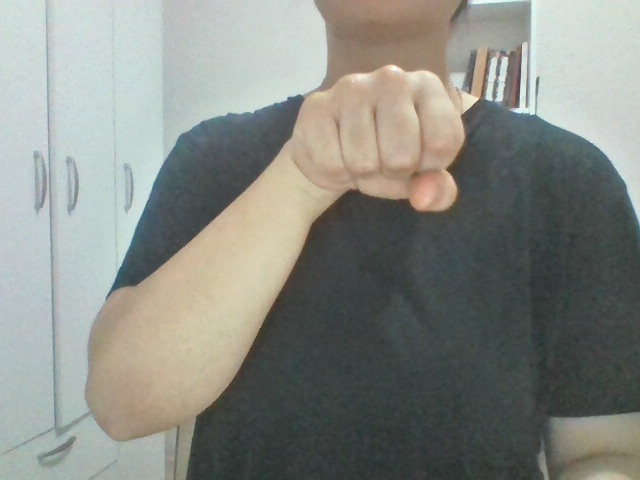Yes: (239, 59, 555, 279)
